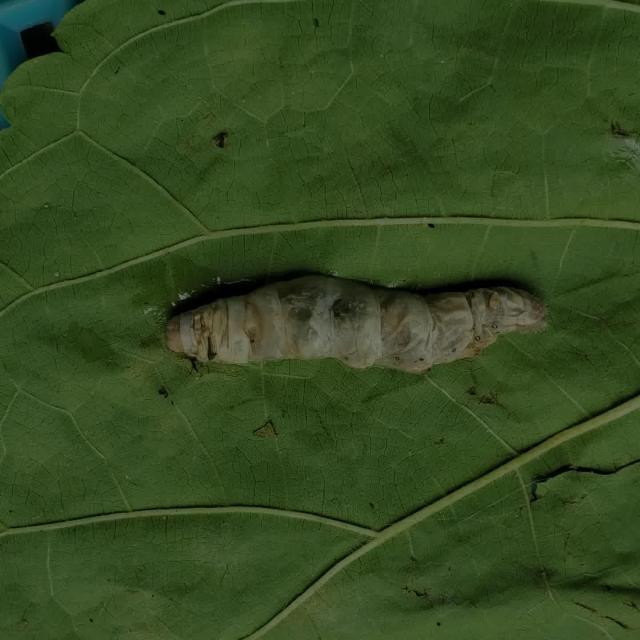Grasserie: (148, 242, 548, 394)
